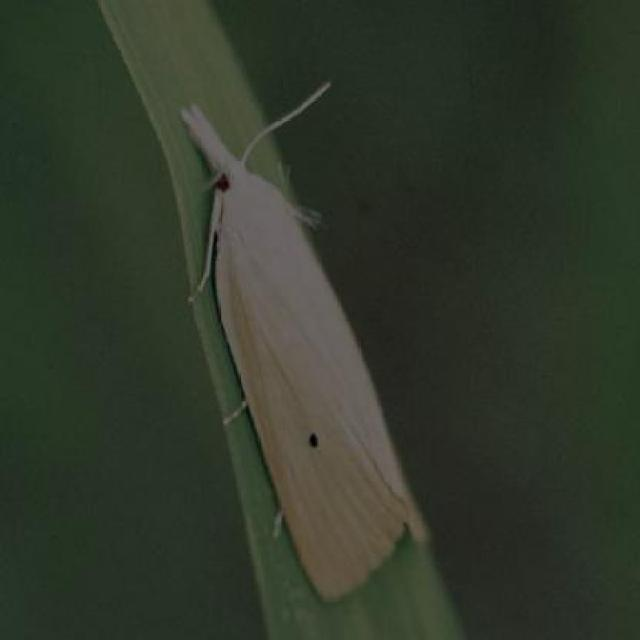stem-borer: (174, 90, 440, 608)
